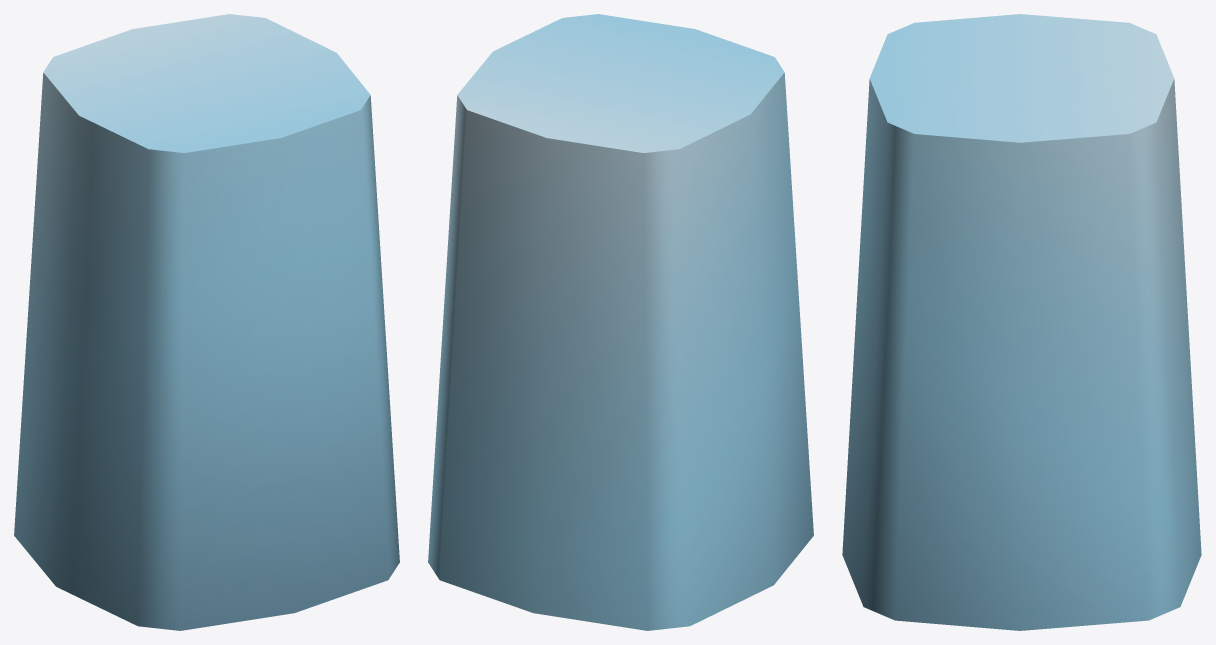
File: glass_content_water.fbx
3 renders of one model, left to right at view 1: azimuth 30°, elevation 25°; view 2: azimuth 150°, elevation 25°; view 3: azimuth 270°, elevation 25°, orthographic. The views are drawn at different scales.
Visible parts, largest first — view 1: glass_content_water; view 2: glass_content_water; view 3: glass_content_water.
Part boxes in pixels (x1,y1,x2,y2): glass_content_water: [14, 14, 399, 630]; glass_content_water: [428, 14, 813, 630]; glass_content_water: [842, 14, 1201, 630].
Bounding box in the file's own units: 13.53 × 19.81 × 13.53.
